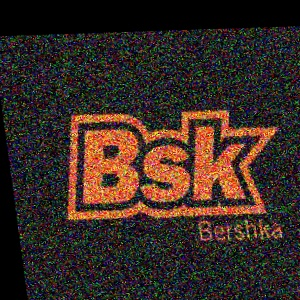bershka: (244, 60, 300, 129)
